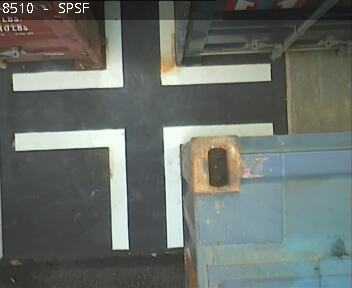groundmarker_1: (15, 122, 271, 249), (14, 1, 271, 93)
